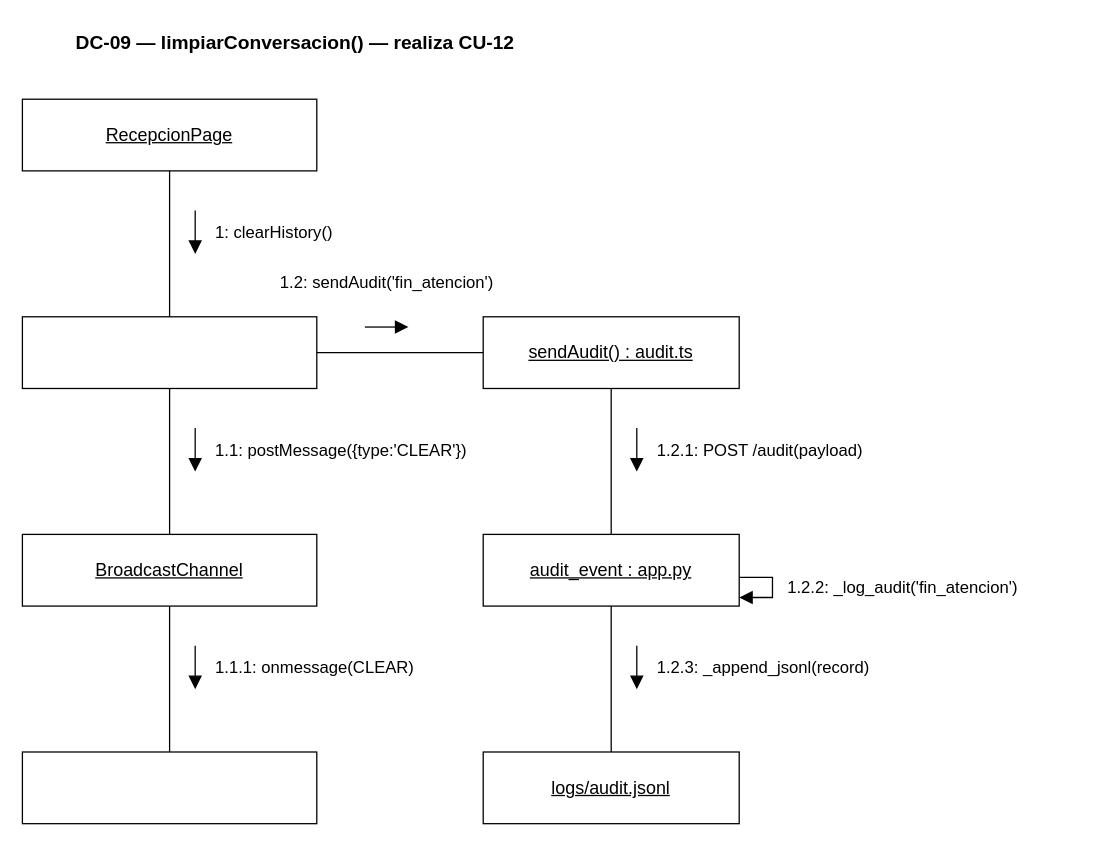
The diagram is 1102 pixels wide and 846 high, and some of its shapes have lost their labels. The shapes that lost their labels are listed below. From the top down, each one's centre as x and y in pixels, then its label:
At point (169, 352): "useChatChannel (Recepción)".
At point (169, 787): "useChatChannel (Paciente)".
